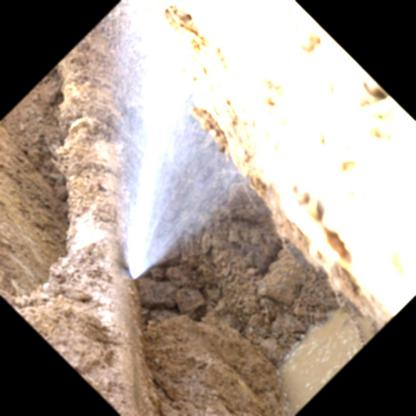burst: (112, 228, 178, 302)
